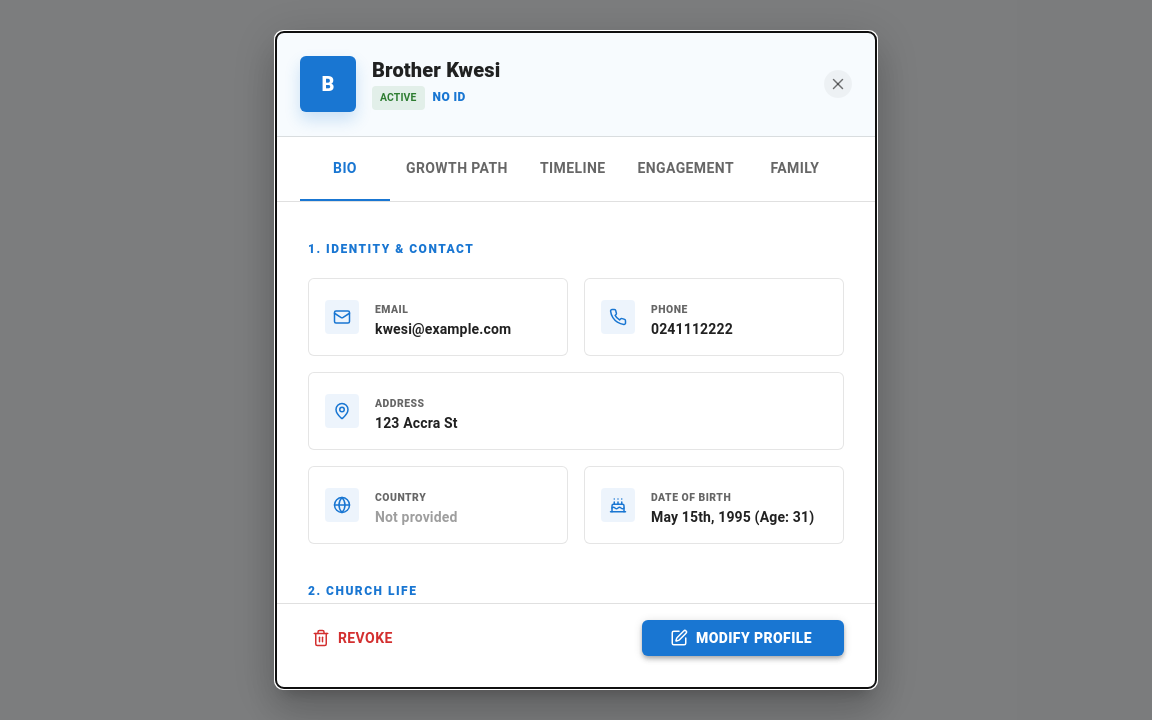
Scenario: MemberDetailsDialog Multi-Tab Profile View › renders Timeline Tab and displays journey audit trail
This screenshot has width=1152, height=720.
Click the tab "Timeline".
click(573, 169)  # box [524, 137, 621, 201]
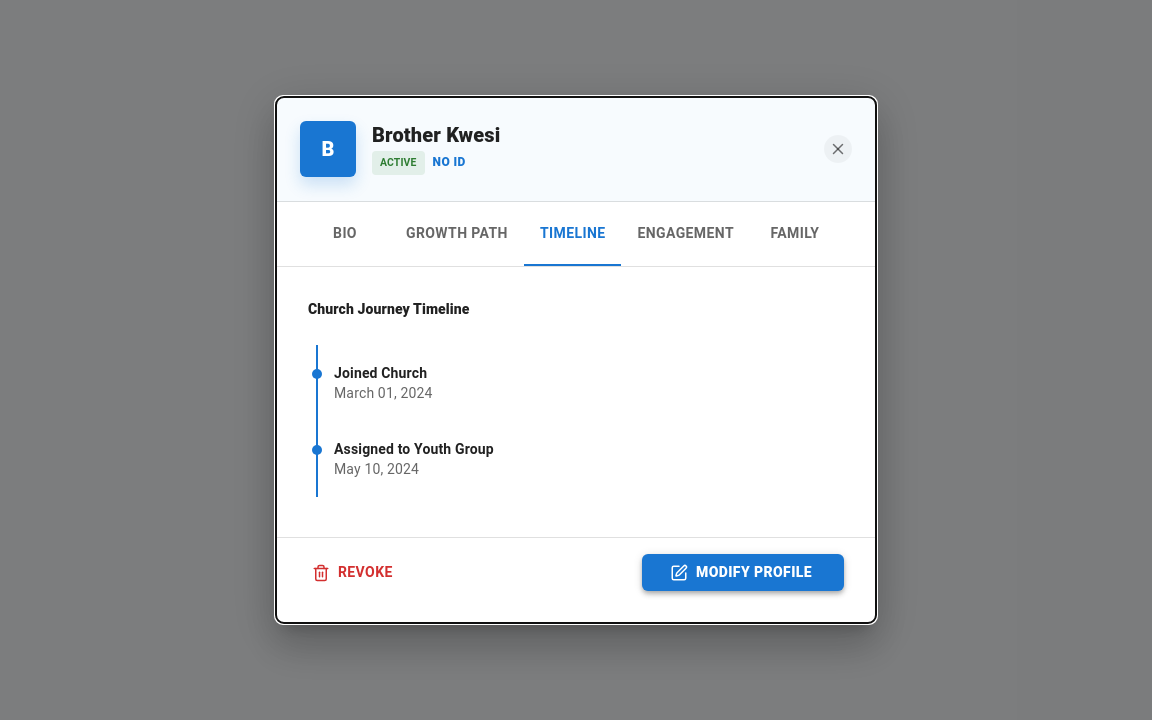
Result: the text "Joined Church" is shown at [334, 365, 427, 381]
Result: the text "Assigned to Youth Group" is shown at [334, 441, 494, 457]
